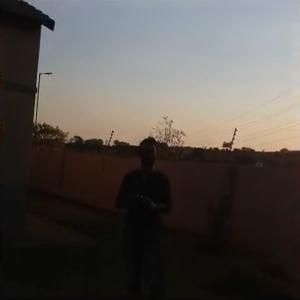follow: (108, 130, 177, 297)
